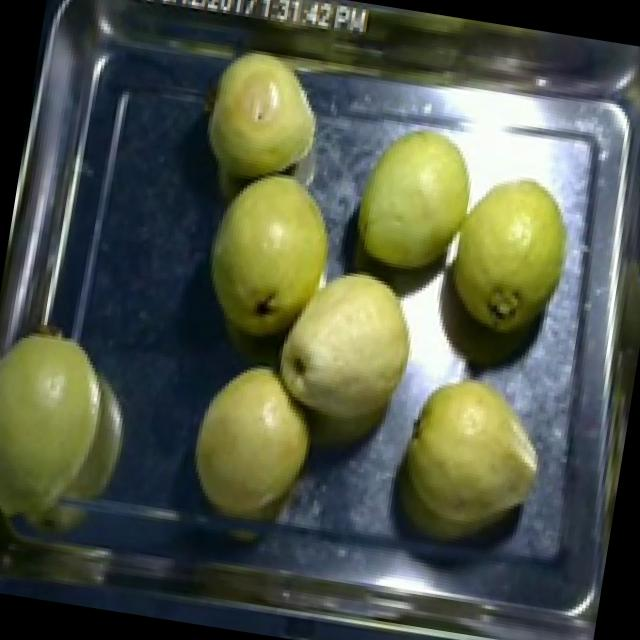Fruit: (369, 348, 570, 568), (251, 246, 444, 474), (416, 156, 598, 394), (0, 311, 149, 559), (188, 154, 356, 356), (175, 350, 334, 539), (344, 107, 491, 294), (190, 37, 342, 197)
